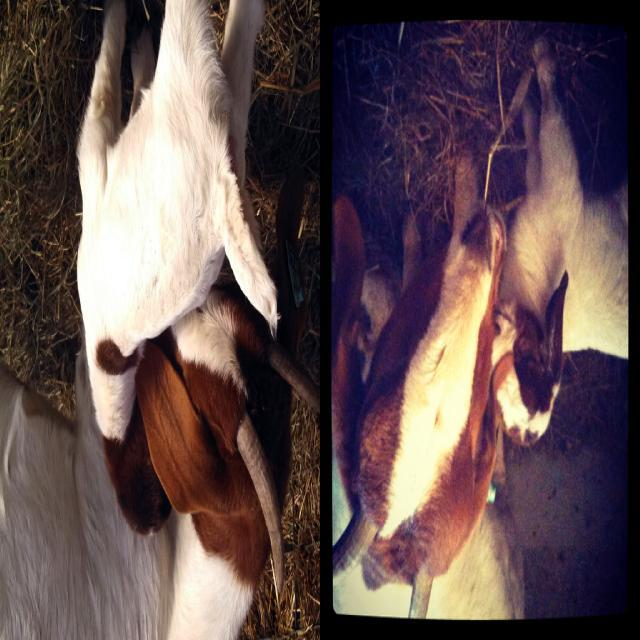Goat: (1, 170, 320, 640), (75, 2, 282, 540), (332, 149, 521, 619), (491, 34, 630, 450)
